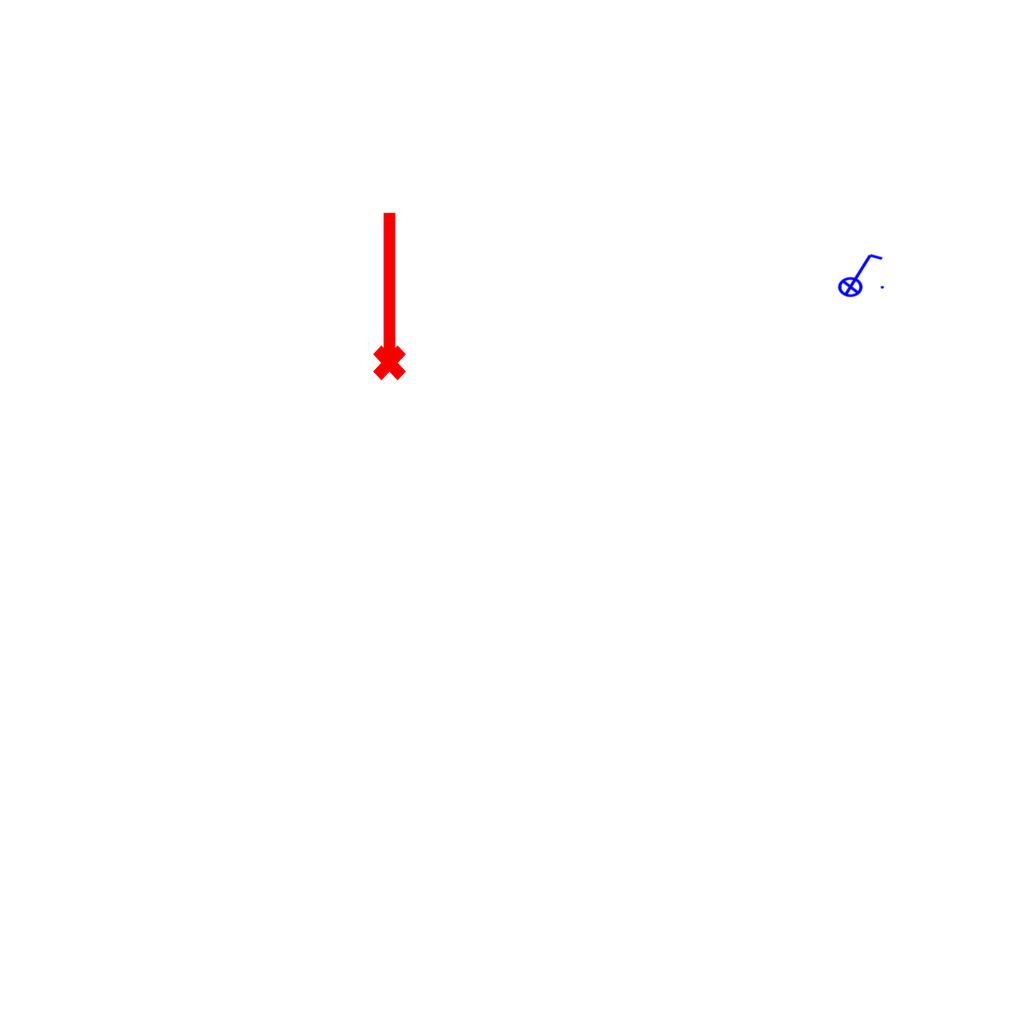ASR_Ansaugoeffnung: (364, 207, 410, 383)
Ausschalter_beleuchtet: (831, 250, 887, 298)
